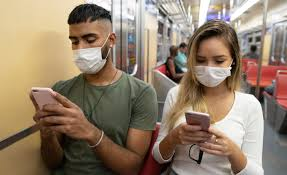with_mask: (67, 30, 118, 75), (190, 48, 235, 90)
